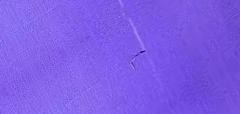snag: (127, 48, 149, 73)
